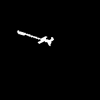double_crochet: (18, 31, 53, 45)
